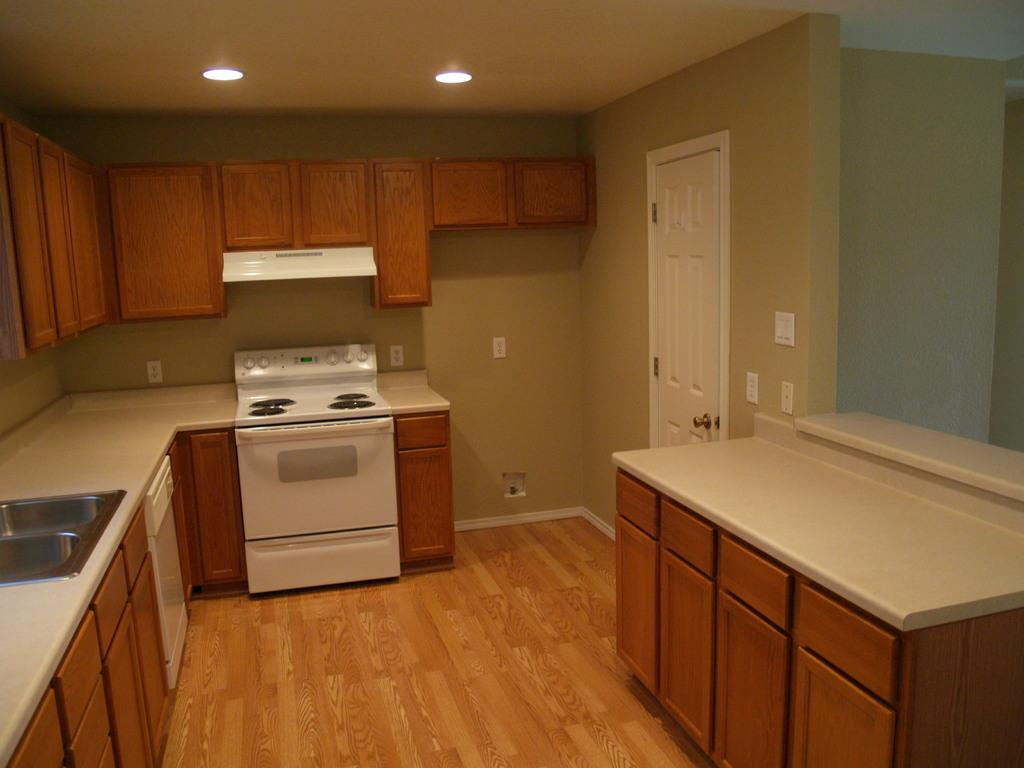cabinet_door: (110, 171, 216, 310), (722, 602, 780, 758), (8, 140, 54, 333), (802, 674, 894, 768), (663, 572, 721, 721), (376, 168, 430, 306), (62, 152, 100, 322), (296, 164, 374, 244), (217, 166, 295, 244), (190, 442, 234, 580), (36, 148, 72, 314), (614, 525, 656, 660), (430, 164, 510, 230), (401, 451, 449, 560), (106, 644, 150, 758), (514, 158, 592, 222), (137, 584, 172, 712), (78, 723, 118, 768)
handle: (242, 422, 388, 440), (262, 528, 392, 548), (686, 407, 708, 432)
